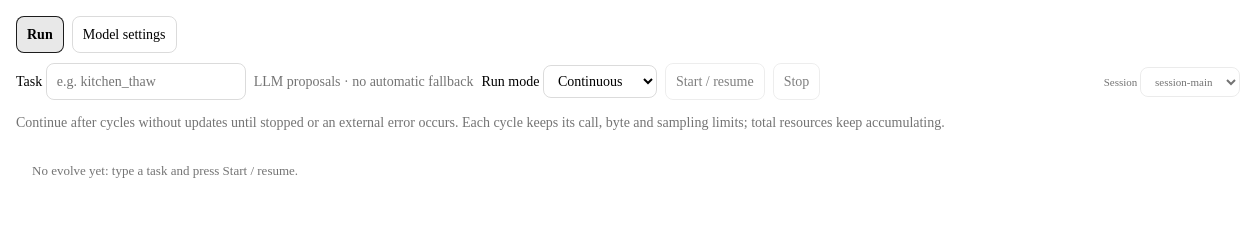
Test case: RsiView › preserves the pending brief when cancellation fails and allows retry
Expected: the text "No evolve yet: type a task and press Start / resume." is shown, [32,163,298,178]
Type "kitchen_thaw" into the field with placeholder "e.g. kitchen_thaw". click: (146, 82)
box: [46,63,246,100]
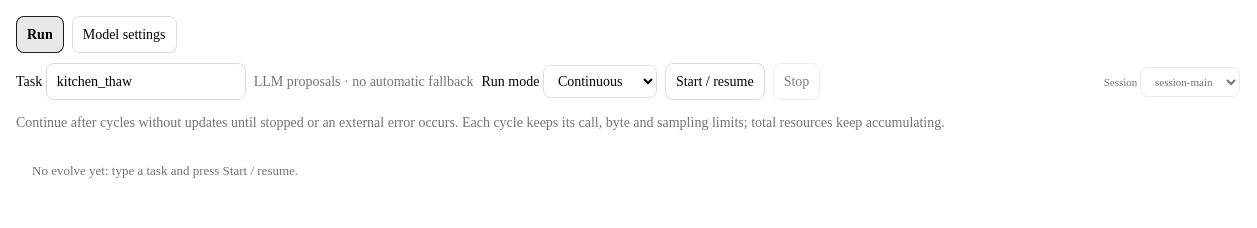
Click the button "Start / resume". click: (715, 82)
box: [665,63,765,100]
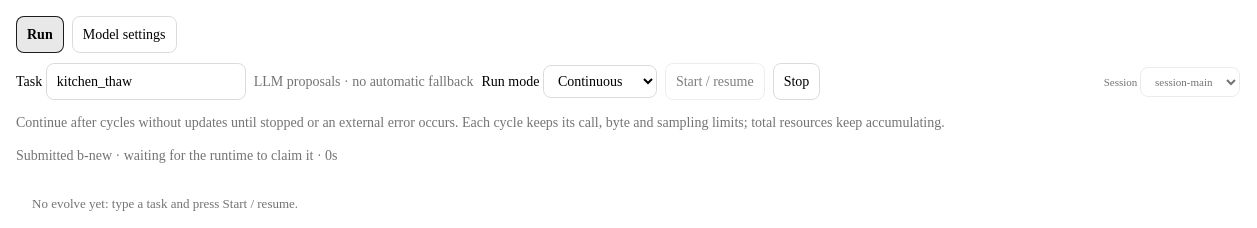
Expected: the text with test id "rsi-pending" shows "b-new", [16,148,338,163]
Click the button "Stop". click: (796, 82)
box: [773,63,820,100]
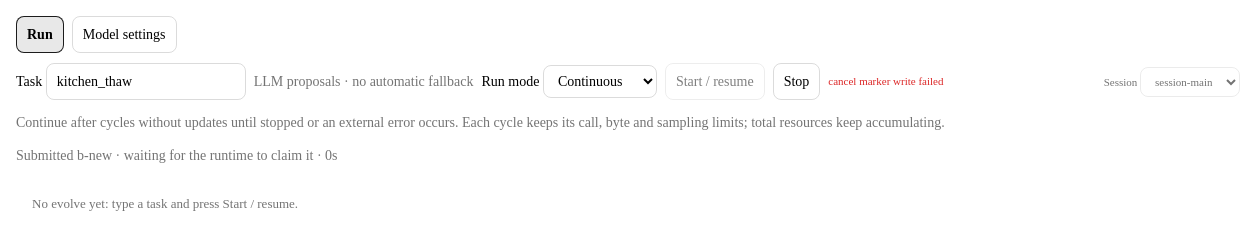
Expected: the text with test id "rsi-pending" shows "b-new", [16,148,338,163]
Expected: the button "Stop" is enabled
Expected: the text "cancel marker write failed" is shown, [828,73,943,90]
Click the button "Stop". click: (796, 82)
box: [773,63,820,100]
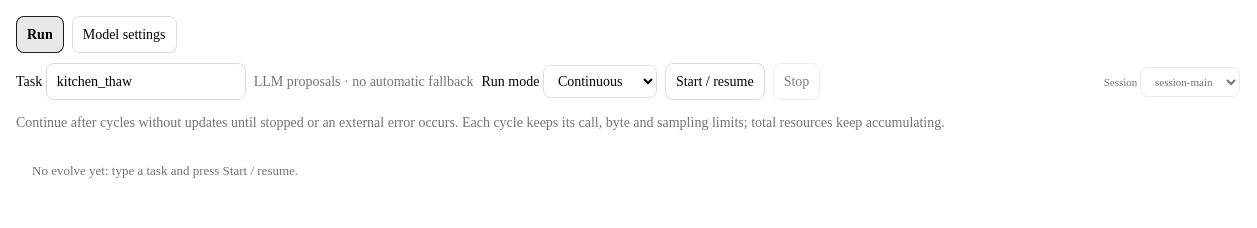
Expected: the text with test id "rsi-pending" is gone
Expected: the text "cancel marker write failed" is gone
